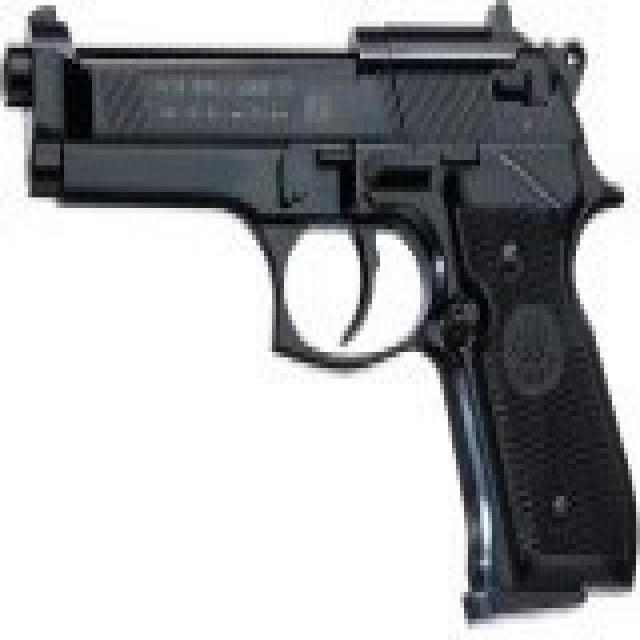Gun: (7, 8, 630, 583)
